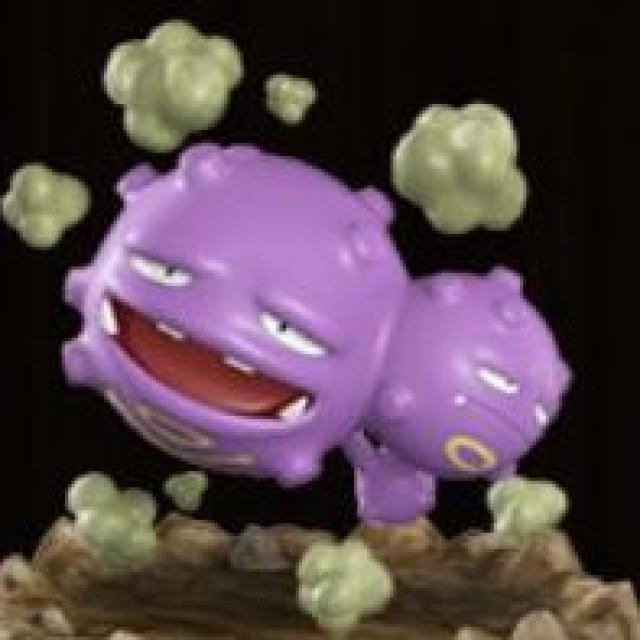Weezing: (63, 141, 578, 524)
